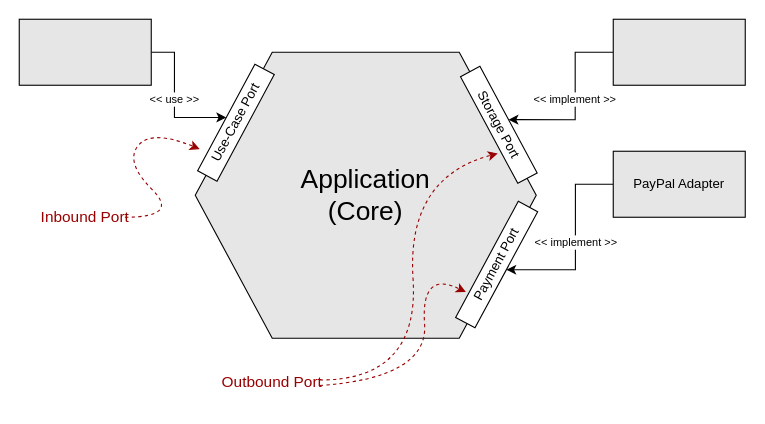
This 765x424 diagram has some shape labels left out. The centre of each missing label's shape, as x and y in pixels:
HTTP Adapter: (84,51)
MySQL Adapter: (678,51)
